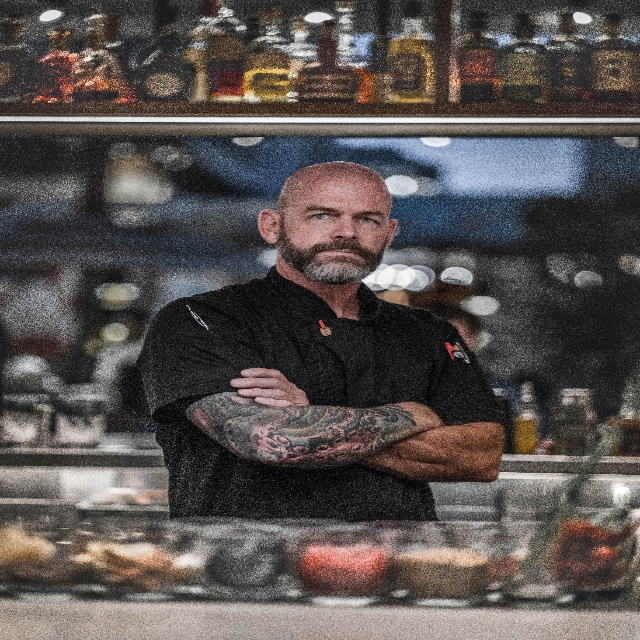Sin_guantes: (229, 366, 310, 408)
